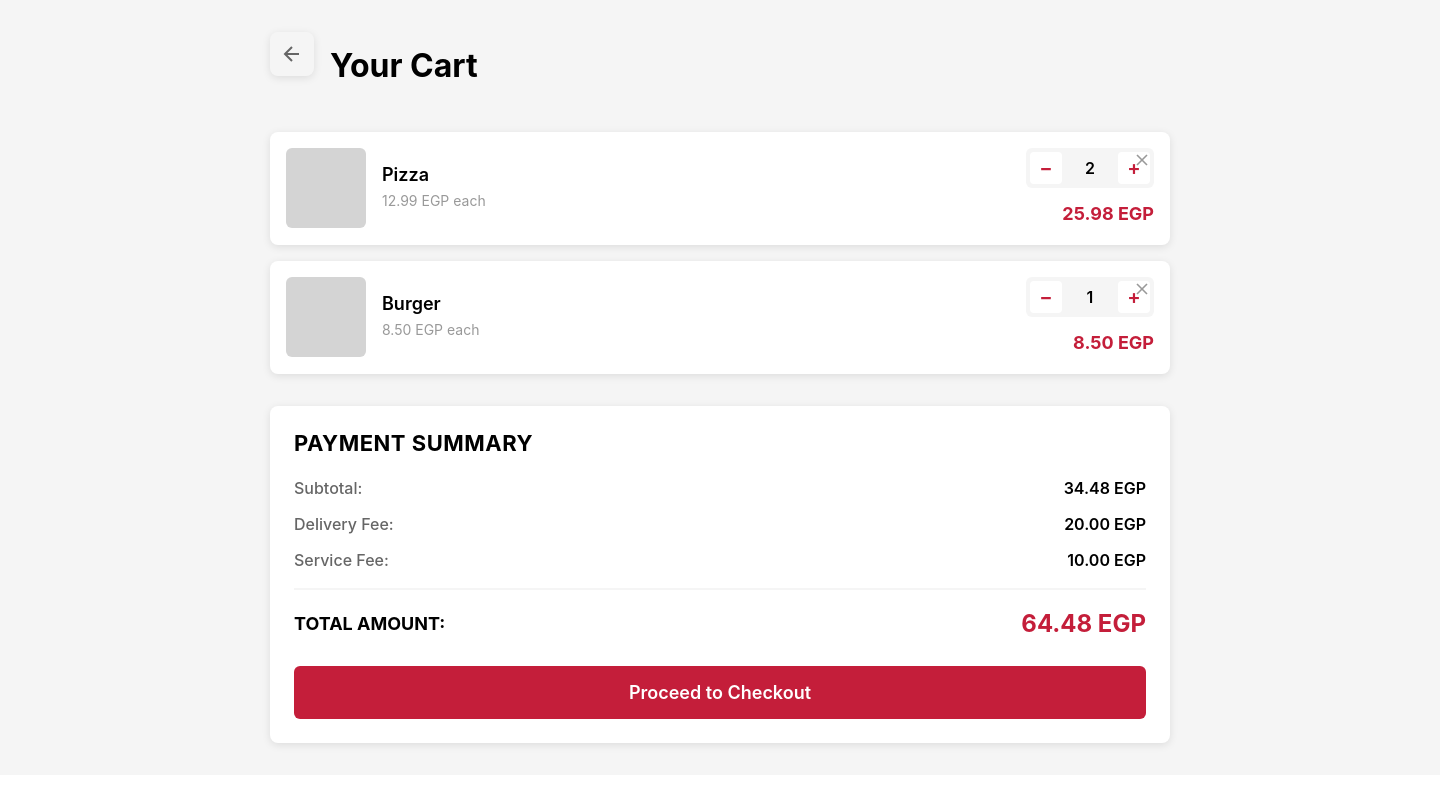
Scenario: Cart Component › should remove item when remove button is clicked
Step 1. Click the button named "remove item" in the row of "Pizza" → (1142, 160), box [1126,144,1158,176]
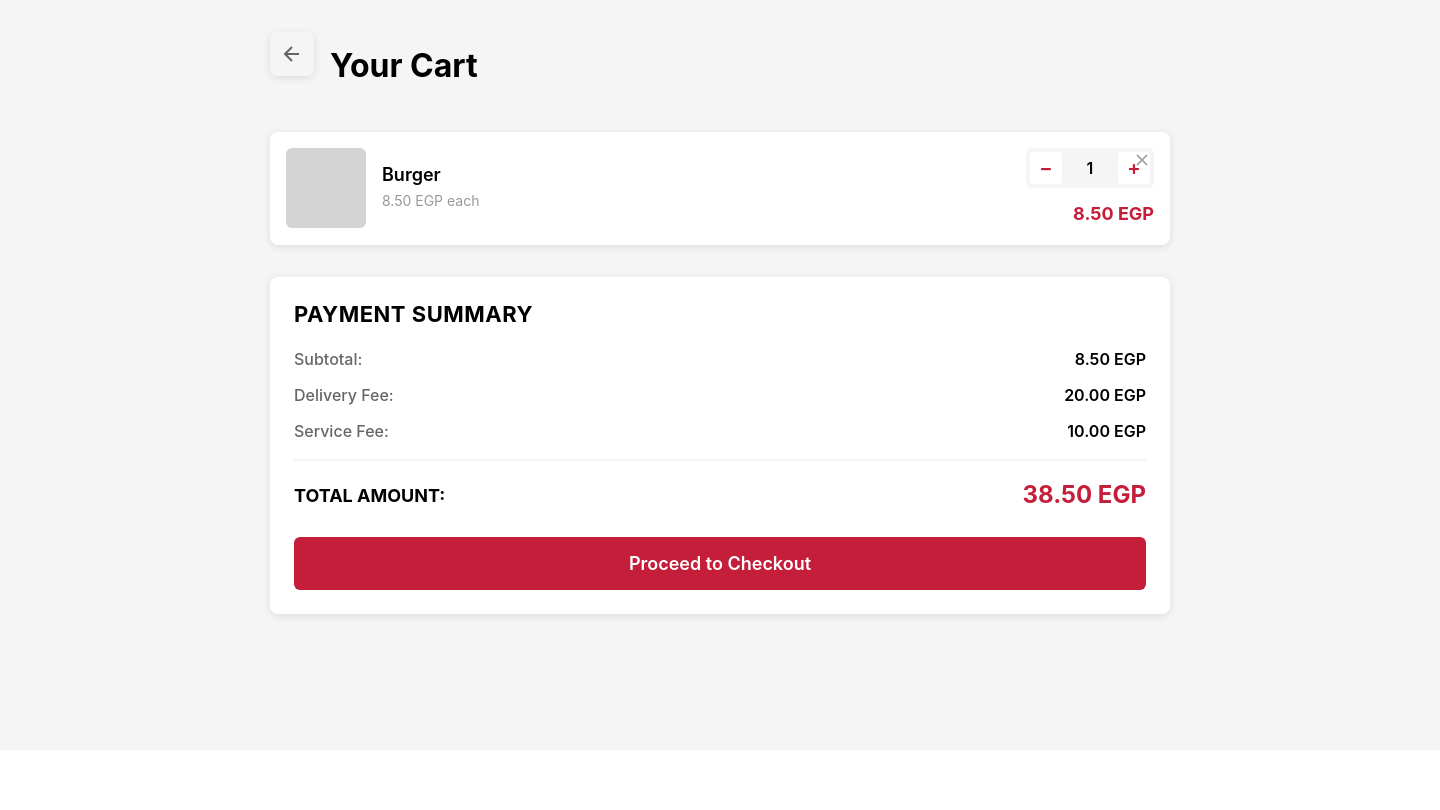
Check: the heading "Burger" is shown, box [382,164,441,185]
Check: the heading "Pizza" is gone
